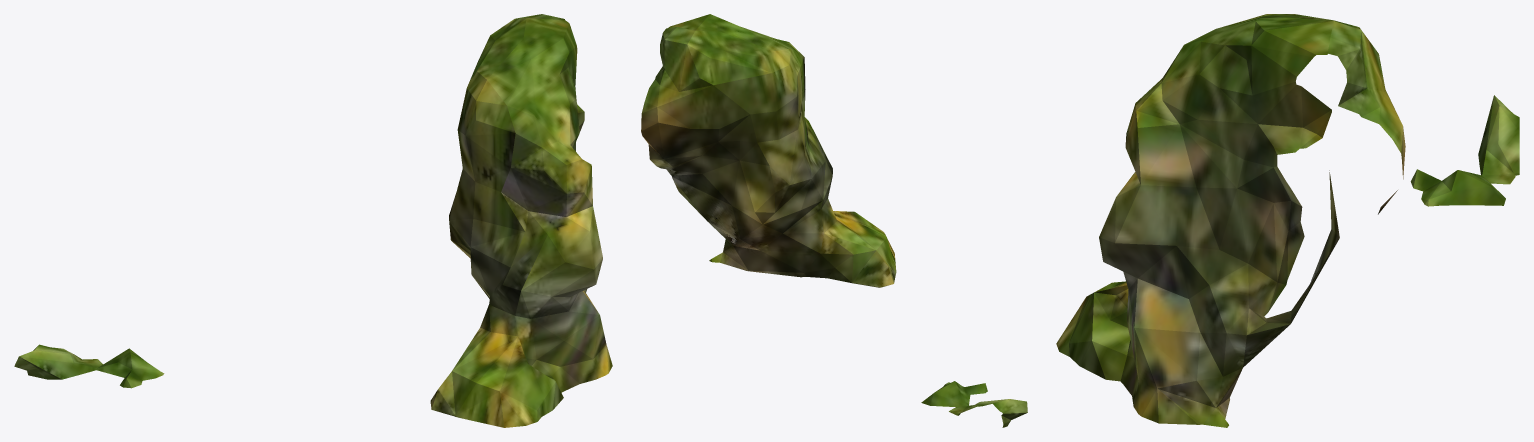
3 renders of one model, left to right at view 1: azimuth 30°, elevation 25°; view 2: azimuth 150°, elevation 25°; view 3: azimuth 270°, elevation 25°, orthographic. The views are drawn at different scales.
Size of the model in its own units: 0.7118 by 0.4246 by 0.4563.
Materials: 1 (1 with a texture image).
